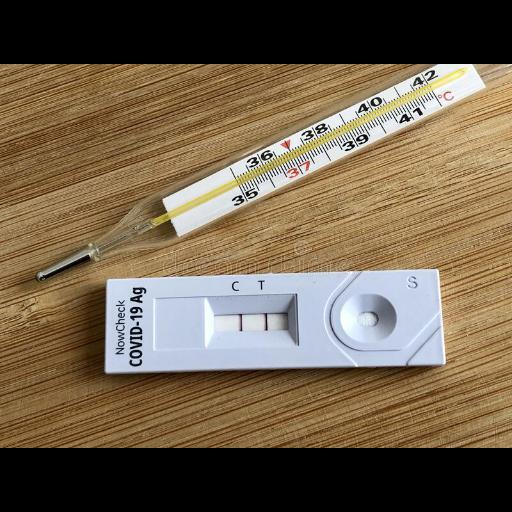Pos: (106, 276, 442, 368)
